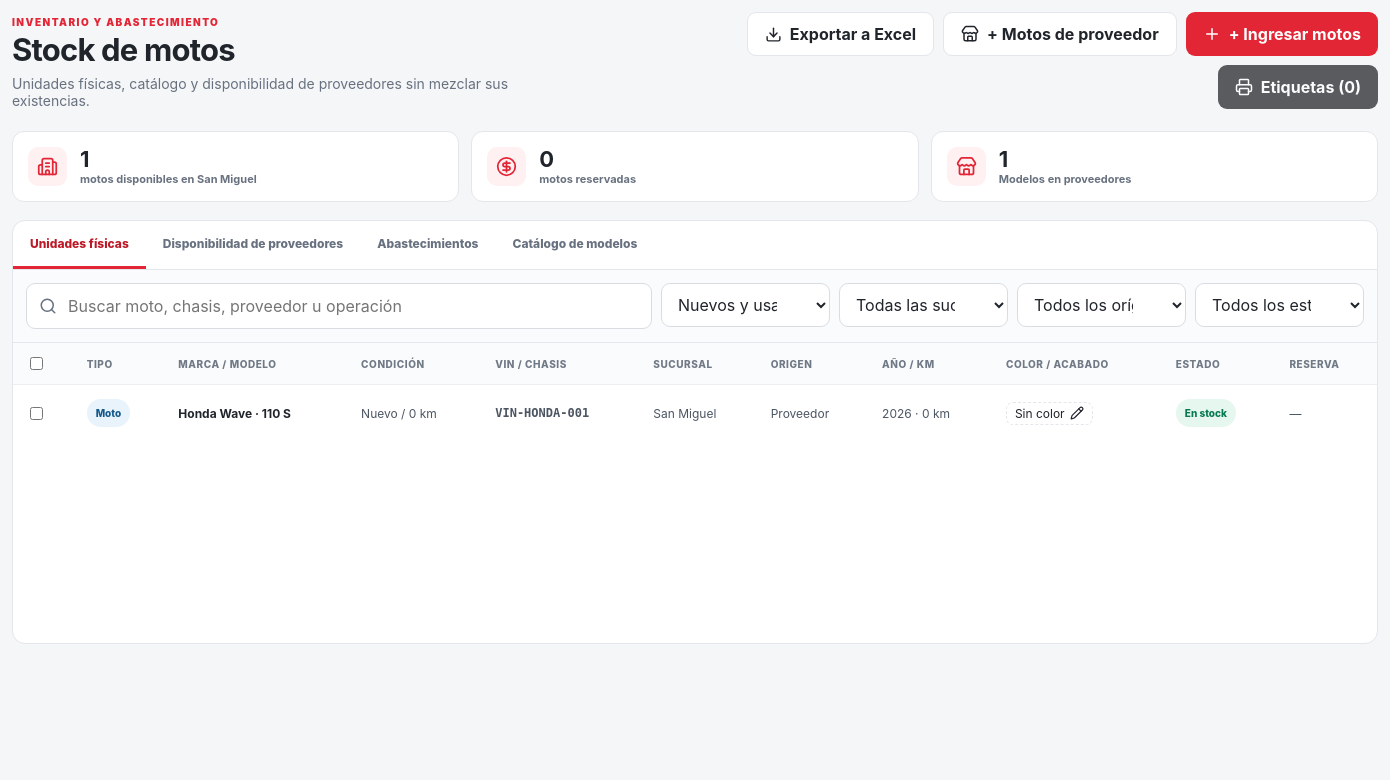
Scenario: workspace de stock › filtra unidades físicas por marca o modelo
Type "Yamaha" into the search field named "Buscar por marca o modelo". click: (352, 306)
box: x1=66 y1=284 x2=639 y2=328
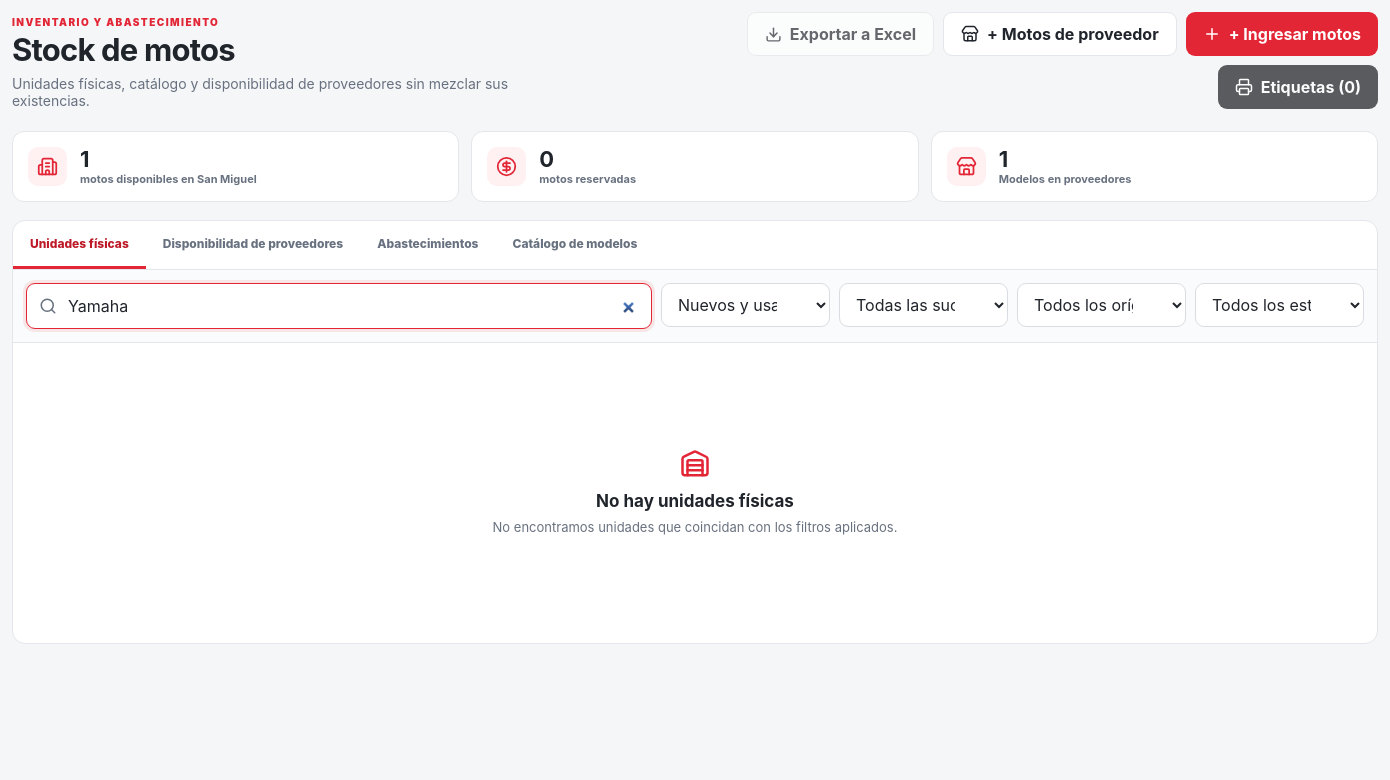
Expected: the text "VIN-HONDA-001" is gone
Expected: the heading "No hay unidades físicas" is shown, x1=596 y1=491 x2=794 y2=511
